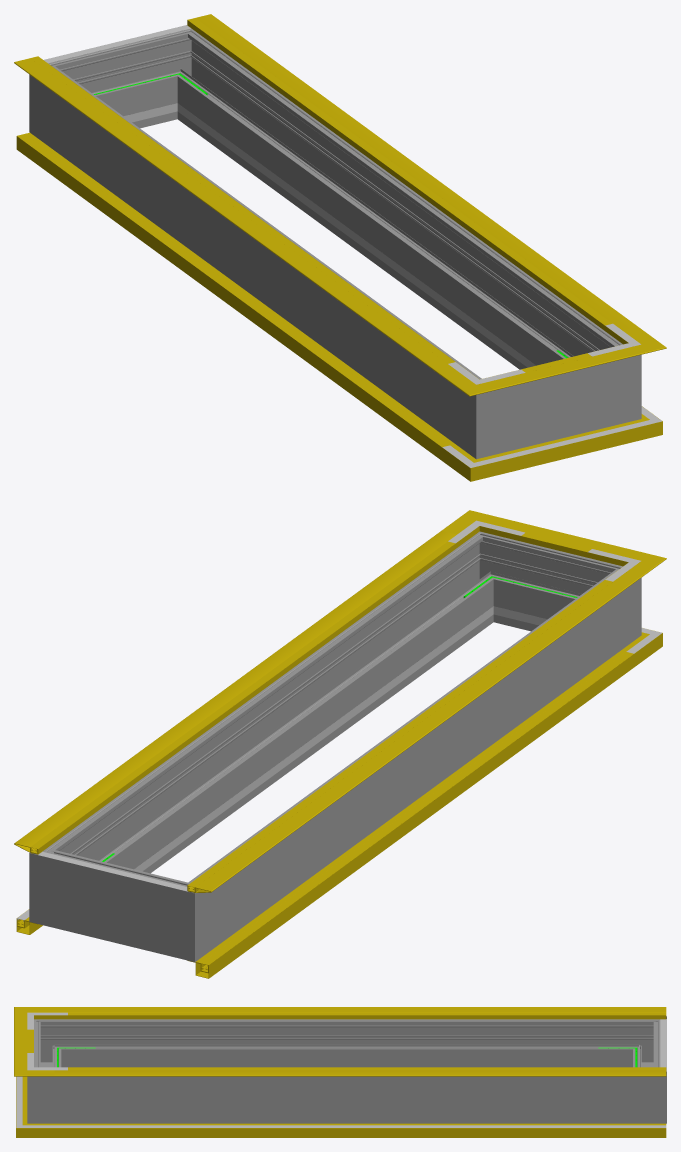
The picture shows the model from 3 angles, top to bottom: view 1: azimuth 30°, elevation 25°; view 2: azimuth 150°, elevation 25°; view 3: azimuth 270°, elevation 25°; orthographic projection. The views are drawn at different scales.
Parts seen in each view (by area): view 1: 3DGeom-297, 3DGeom-268, 3DGeom-145, 3DGeom-6, 3DGeom-147, 3DGeom-270, 3DGeom-276, 3DGeom-298, 3DGeom-25, 3DGeom-152, 3DGeom-154, 3DGeom-290 (+10 smaller); view 2: 3DGeom-297, 3DGeom-268, 3DGeom-145, 3DGeom-6, 3DGeom-147, 3DGeom-278, 3DGeom-276, 3DGeom-298, 3DGeom-284, 3DGeom-25, 3DGeom-154, 3DGeom-152 (+7 smaller); view 3: 3DGeom-268, 3DGeom-297, 3DGeom-16, 3DGeom-147, 3DGeom-145, 3DGeom-152, 3DGeom-154, 3DGeom-284, 3DGeom-290, 3DGeom-18, 3DGeom-278, 3DGeom-270 (+12 smaller).
Part boxes in pixels (x1=…): 3DGeom-297: x1=182, y1=46, x2=604, y2=369; 3DGeom-268: x1=58, y1=80, x2=463, y2=437; 3DGeom-145: x1=187, y1=14, x2=637, y2=337; 3DGeom-6: x1=16, y1=132, x2=454, y2=460; 3DGeom-147: x1=14, y1=56, x2=461, y2=375; 3DGeom-270: x1=447, y1=365, x2=525, y2=459; 3DGeom-276: x1=83, y1=38, x2=169, y2=128; 3DGeom-298: x1=525, y1=367, x2=592, y2=446; 3DGeom-25: x1=17, y1=134, x2=449, y2=447; 3DGeom-152: x1=187, y1=18, x2=612, y2=325; 3DGeom-154: x1=30, y1=56, x2=454, y2=363; 3DGeom-290: x1=592, y1=331, x2=641, y2=430; 3DGeom-297: x1=66, y1=549, x2=488, y2=873; 3DGeom-268: x1=207, y1=583, x2=613, y2=941; 3DGeom-145: x1=14, y1=531, x2=465, y2=854; 3DGeom-6: x1=187, y1=650, x2=634, y2=978; 3DGeom-147: x1=187, y1=575, x2=638, y2=893; 3DGeom-278: x1=145, y1=868, x2=223, y2=962; 3DGeom-276: x1=78, y1=858, x2=154, y2=950; 3DGeom-298: x1=502, y1=541, x2=587, y2=631; 3DGeom-284: x1=29, y1=834, x2=87, y2=933; 3DGeom-25: x1=201, y1=652, x2=633, y2=966; 3DGeom-154: x1=187, y1=580, x2=612, y2=888; 3DGeom-152: x1=30, y1=541, x2=455, y2=850; 3DGeom-268: x1=68, y1=1019, x2=626, y2=1067; 3DGeom-297: x1=68, y1=1076, x2=626, y2=1123; 3DGeom-16: x1=57, y1=1123, x2=666, y2=1137; 3DGeom-147: x1=54, y1=1007, x2=666, y2=1019; 3DGeom-145: x1=54, y1=1070, x2=666, y2=1076; 3DGeom-152: x1=68, y1=1067, x2=666, y2=1070; 3DGeom-154: x1=68, y1=1012, x2=666, y2=1015; 3DGeom-284: x1=626, y1=1057, x2=666, y2=1123; 3DGeom-290: x1=27, y1=1057, x2=67, y2=1123; 3DGeom-18: x1=57, y1=1125, x2=666, y2=1127; 3DGeom-278: x1=626, y1=1016, x2=666, y2=1067; 3DGeom-270: x1=34, y1=1019, x2=67, y2=1067.
Bounding box in the file's own units: 0.6096 × 0.2596 × 2.44.
